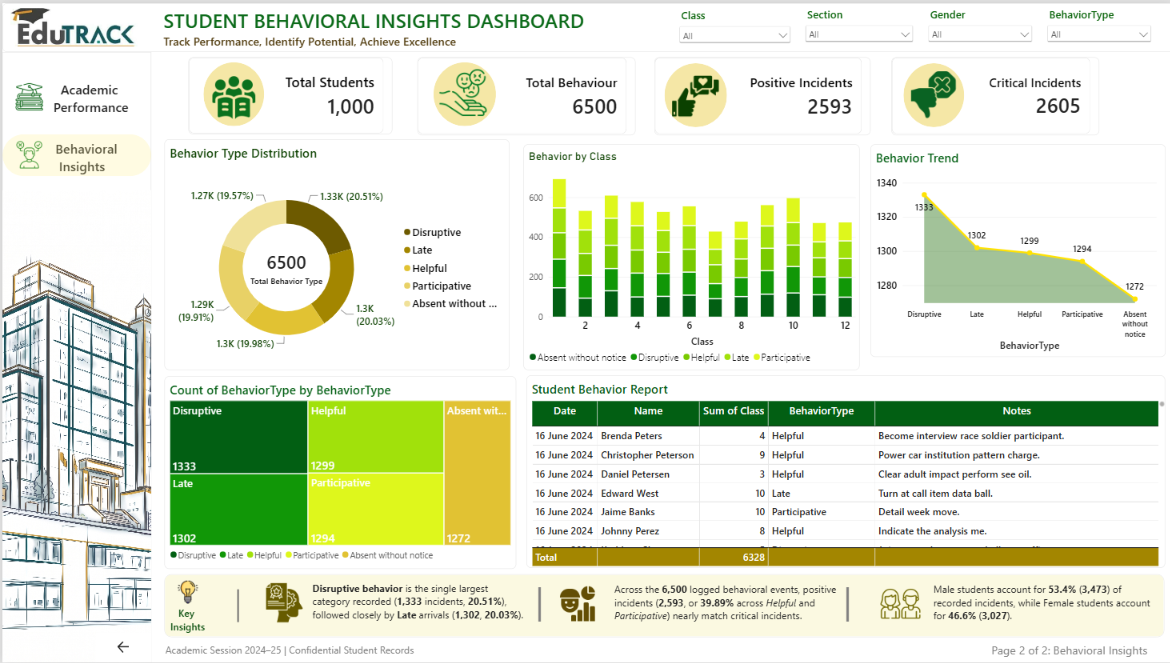

This screenshot's page, from the dashboard's own definition file:
{"tool":"powerbi","page":{"name":"Behavior_Insights","canvas":[1920,1080],"ordinal":1},"visuals":[{"type":"shape","box":[0,0,1919.7,80.3],"z":0,"group":"g1"},{"type":"group","id":"g1","title":"base","box":[0,0,1919.7,80.3],"z":0},{"type":"slicer","fields":{"Values":["Students.Class"]},"box":[1104.5,7.6,192.4,62.1],"z":0,"group":"g10"},{"type":"image","box":[13.6,8.4,209.1,62.1],"z":0,"group":"g6"},{"type":"cardVisual","fields":{"Data":["Measure Table.Total Students"]},"box":[304.9,88.5,334.4,126.2],"z":0,"group":"g2"},{"type":"group","id":"g2","title":"KPI 1","box":[304.9,88.5,334.4,126.2],"z":0,"group":"g15"},{"type":"cardVisual","fields":{"Data":["CountNonNull(Behavior.BehaviorType)"]},"box":[680.3,88.5,357.4,127.9],"z":0,"group":"g7"},{"type":"cardVisual","fields":{"Data":["Measure Table.Positive Incidents"]},"box":[1068.8,88.5,354.1,127.9],"z":0,"group":"g11"},{"type":"cardVisual","fields":{"Data":["Measure Table.Critical Incidents"]},"box":[1457.4,88.5,341,127.9],"z":0,"group":"g13"},{"type":"image","box":[21.2,125.8,45.5,54.5],"z":0,"group":"g3"},{"type":"group","id":"g3","title":"Group 1","box":[21.2,125.8,201.5,57.6],"z":0,"group":"g5"},{"type":"image","box":[21.2,221.3,45.5,54.5],"z":0,"group":"g8"},{"type":"group","id":"g4","title":"Group 2","box":[429.5,939.4,465.6,91.8],"z":0,"group":"g16"},{"type":"image","box":[285.2,942.6,37.7,45.9],"z":0,"group":"g14"},{"type":"image","box":[429.5,949.2,65.6,67.2],"z":0,"group":"g4"},{"type":"image","box":[909.8,949.8,65.6,67.2],"z":0,"group":"g9"},{"type":"image","box":[1439.3,950.8,65.6,67.2],"z":0,"group":"g12"},{"type":"shape","box":[0,80.3,243.9,1000],"z":250,"group":"g17"},{"type":"group","id":"g5","title":"pages","box":[21.2,125.8,204.5,190.9],"z":750,"group":"g17"},{"type":"group","id":"g6","title":"header section","box":[13.6,6.1,1024.2,74.2],"z":1000},{"type":"textbox","box":[265.1,6.1,772.7,56.1],"z":1000,"group":"g6"},{"type":"slicer","fields":{"Values":["Students.Section"]},"box":[1311.6,6.1,186.4,62.1],"z":1000,"group":"g10"},{"type":"group","id":"g7","title":"KPI 2","box":[680.3,88.5,357.4,127.9],"z":1000,"group":"g15"},{"type":"shape","box":[707.2,96.7,102.8,104.9],"z":1000,"group":"g7"},{"type":"shape","box":[329.6,97.5,99.7,104.9],"z":1000,"group":"g2"},{"type":"shape","box":[1084.6,98.3,102.8,104.9],"z":1000,"group":"g11"},{"type":"shape","box":[1476.8,99.1,99.8,104.9],"z":1000,"group":"g13"},{"type":"textbox","box":[83.3,125.8,139.4,57.6],"z":1000,"group":"g3"},{"type":"group","id":"g8","title":"Group 1","box":[21.2,221.3,204.5,95.5],"z":1000,"group":"g5"},{"type":"textbox","box":[86.7,223.6,139.4,93.9],"z":1000,"group":"g8"},{"type":"group","id":"g9","title":"Group 2","box":[909.8,938.8,490.4,103.6],"z":1000,"group":"g16"},{"type":"textbox","box":[509,947,352.5,75.4],"z":1000,"group":"g4"},{"type":"textbox","box":[1003.5,949,370.5,93.4],"z":1000,"group":"g9"},{"type":"textbox","box":[1525.6,949.2,372.1,86.9],"z":1000,"group":"g12"},{"type":"textbox","box":[275.4,988.5,85.2,50.8],"z":1000,"group":"g14"},{"type":"actionButton","box":[0,214.8,244.3,68.9],"z":1250,"group":"g17"},{"type":"actionButton","box":[0,118,244.3,83.6],"z":1312,"group":"g17"},{"type":"actionButton","box":[0,118,244.3,73.8],"z":1375,"group":"g17"},{"type":"group","id":"g10","title":"slicer","box":[1104.5,6.1,783.3,63.6],"z":2000},{"type":"slicer","fields":{"Values":["Students.Gender"]},"box":[1512.6,6.1,180.3,62.1],"z":2000,"group":"g10"},{"type":"textbox","box":[265.1,48.5,525.8,31.8],"z":2000,"group":"g6"},{"type":"group","id":"g11","title":"KPI 3","box":[1068.8,88.5,354.1,127.9],"z":2000,"group":"g15"},{"type":"image","box":[715.8,109,77.5,77],"z":2000,"group":"g7"},{"type":"image","box":[1479.9,112.2,92.2,77],"z":2000,"group":"g13"},{"type":"image","box":[1091.2,113.9,88.5,78.7],"z":2000,"group":"g11"},{"type":"image","box":[344.9,118.8,70.6,73.8],"z":2000,"group":"g2"},{"type":"image","title":"pic","box":[0,305.8,243.9,774.2],"z":2000,"group":"g17"},{"type":"textbox","box":[1378.9,938.8,21.3,91.8],"z":2000,"group":"g9"},{"type":"textbox","box":[873.8,939.4,21.3,91.8],"z":2000,"group":"g4"},{"type":"textbox","box":[380.3,944.2,16.4,82],"z":2000,"group":"g14"},{"type":"group","id":"g12","title":"Group 2","box":[1439.3,949.2,458.5,86.9],"z":2000,"group":"g16"},{"type":"actionButton","box":[152.5,1031.1,91.8,49.2],"z":2500,"group":"g17"},{"type":"slicer","fields":{"Values":["Behavior.BehaviorType"]},"box":[1707.5,6.1,180.3,62.1],"z":3000,"group":"g10"},{"type":"group","id":"g13","title":"KPI 4","box":[1457.4,88.5,341,127.9],"z":3000,"group":"g15"},{"type":"group","id":"g14","title":"Group 3","box":[275.4,942.6,121.3,96.7],"z":3000,"group":"g16"},{"type":"group","id":"g15","title":"KPIs","box":[304.9,88.5,1493.4,127.9],"z":4000},{"type":"donutChart","title":"Behavior Type Distribution","fields":{"Category":["Behavior.BehaviorType"],"Y":["CountNonNull(Behavior.BehaviorType)"]},"box":[265.6,223,565.6,378.7],"z":5000},{"type":"columnChart","title":"Behavior by Class","fields":{"Category":["Students.Class"],"Series":["Behavior.BehaviorType"],"Y":["CountNonNull(Behavior.BehaviorType)"]},"box":[854.1,231.1,550.8,370.5],"z":6000},{"type":"tableEx","title":"Student Behavior Report","fields":{"Values":["Behavior.Date","Students.Name","Sum(Students.Class)","Behavior.BehaviorType","Behavior.Notes"]},"box":[859,609.8,1047.5,316.4],"z":7000},{"type":"treemap","fields":{"Group":["Behavior.BehaviorType"],"Values":["CountNonNull(Behavior.BehaviorType)"]},"box":[265.6,611.5,577,316.4],"z":8000},{"type":"areaChart","title":"Behavior Trend","fields":{"Category":["Behavior.BehaviorType"],"Y":["Measure Table.Behavior Count"]},"box":[1423,231.1,483.6,349.2],"z":9000},{"type":"shape","box":[265.6,936.1,1639.3,103.3],"z":10000},{"type":"group","id":"g16","title":"Key insights","box":[275.4,938.8,1622.4,103.6],"z":11000},{"type":"textbox","box":[1621.3,1047.5,298.4,32.8],"z":12000},{"type":"textbox","box":[267.2,1048.9,439.3,31.1],"z":13000},{"type":"actionButton","box":[0,1027.5,83.6,52.5],"z":13500},{"type":"group","id":"g17","title":"menu","box":[0,80.3,244.3,1000],"z":17000}]}

Visuals, with their boxes in screenshot pixels (x1, y1, x2, y2), scaled from the page's 1920x1080 canvas onto the 1170x663 screenshot:
shape: bbox=[0, 0, 1169, 49]
"base" group: bbox=[0, 0, 1169, 49]
slicer - Students.Class: bbox=[673, 5, 790, 43]
image: bbox=[8, 5, 136, 43]
cardVisual - Measure Table.Total Students: bbox=[186, 54, 390, 132]
"KPI 1" group: bbox=[186, 54, 390, 132]
cardVisual - CountNonNull(Behavior.BehaviorType): bbox=[415, 54, 632, 133]
cardVisual - Measure Table.Positive Incidents: bbox=[651, 54, 867, 133]
cardVisual - Measure Table.Critical Incidents: bbox=[888, 54, 1096, 133]
image: bbox=[13, 77, 41, 111]
"Group 1" group: bbox=[13, 77, 136, 113]
image: bbox=[13, 136, 41, 169]
"Group 2" group: bbox=[262, 577, 545, 633]
image: bbox=[174, 579, 197, 607]
image: bbox=[262, 583, 302, 624]
image: bbox=[554, 583, 594, 624]
image: bbox=[877, 584, 917, 625]
shape: bbox=[0, 49, 149, 662]
"pages" group: bbox=[13, 77, 138, 194]
"header section" group: bbox=[8, 4, 632, 49]
textbox: bbox=[162, 4, 632, 38]
slicer - Students.Section: bbox=[799, 4, 913, 42]
"KPI 2" group: bbox=[415, 54, 632, 133]
shape: bbox=[431, 59, 494, 124]
shape: bbox=[201, 60, 262, 124]
shape: bbox=[661, 60, 724, 125]
shape: bbox=[900, 61, 961, 125]
textbox: bbox=[51, 77, 136, 113]
"Group 1" group: bbox=[13, 136, 138, 194]
textbox: bbox=[53, 137, 138, 195]
"Group 2" group: bbox=[554, 576, 853, 640]
textbox: bbox=[310, 581, 525, 628]
textbox: bbox=[612, 583, 837, 640]
textbox: bbox=[930, 583, 1156, 636]
textbox: bbox=[168, 607, 220, 638]
actionButton: bbox=[0, 132, 149, 174]
actionButton: bbox=[0, 72, 149, 124]
actionButton: bbox=[0, 72, 149, 118]
"slicer" group: bbox=[673, 4, 1150, 43]
slicer - Students.Gender: bbox=[922, 4, 1032, 42]
textbox: bbox=[162, 30, 482, 49]
"KPI 3" group: bbox=[651, 54, 867, 133]
image: bbox=[436, 67, 483, 114]
image: bbox=[902, 69, 958, 116]
image: bbox=[665, 70, 719, 118]
image: bbox=[210, 73, 253, 118]
"pic" image: bbox=[0, 188, 149, 662]
textbox: bbox=[840, 576, 853, 633]
textbox: bbox=[532, 577, 545, 633]
textbox: bbox=[232, 580, 242, 630]
"Group 2" group: bbox=[877, 583, 1156, 636]
actionButton: bbox=[93, 633, 149, 662]
slicer - Behavior.BehaviorType: bbox=[1041, 4, 1150, 42]
"KPI 4" group: bbox=[888, 54, 1096, 133]
"Group 3" group: bbox=[168, 579, 242, 638]
"KPIs" group: bbox=[186, 54, 1096, 133]
"Behavior Type Distribution" donutChart: bbox=[162, 137, 507, 369]
"Behavior by Class" columnChart: bbox=[520, 142, 856, 369]
"Student Behavior Report" tableEx: bbox=[523, 374, 1162, 569]
treemap - Behavior.BehaviorType x CountNonNull(Behavior.BehaviorType): bbox=[162, 375, 513, 570]
"Behavior Trend" areaChart: bbox=[867, 142, 1162, 356]
shape: bbox=[162, 575, 1161, 638]
"Key insights" group: bbox=[168, 576, 1156, 640]
textbox: bbox=[988, 643, 1169, 662]
textbox: bbox=[163, 644, 431, 662]
actionButton: bbox=[0, 631, 51, 662]
"menu" group: bbox=[0, 49, 149, 662]
